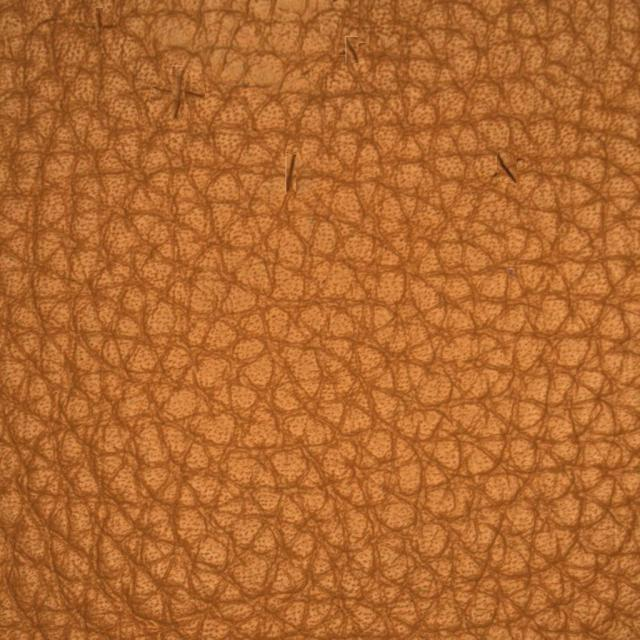Scratch: (308, 17, 546, 198), (142, 63, 318, 208)
